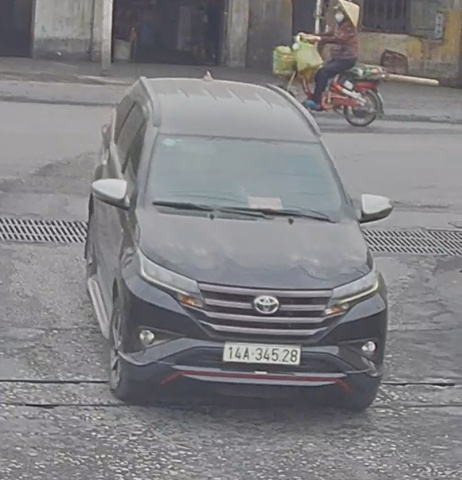vehicle plate: (220, 333, 305, 366)
